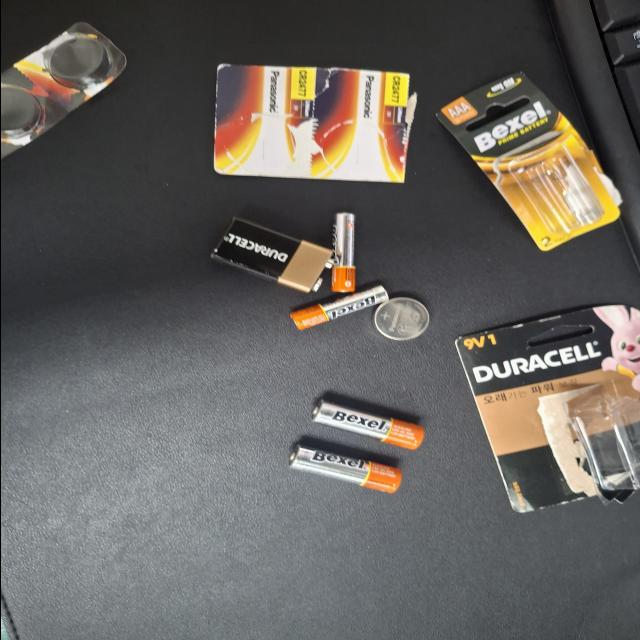9V: (76, 232, 177, 323)
AA: (318, 162, 387, 247), (379, 179, 444, 264)
AAA: (167, 189, 227, 263), (70, 214, 177, 232)
COIN: (183, 159, 240, 200)
